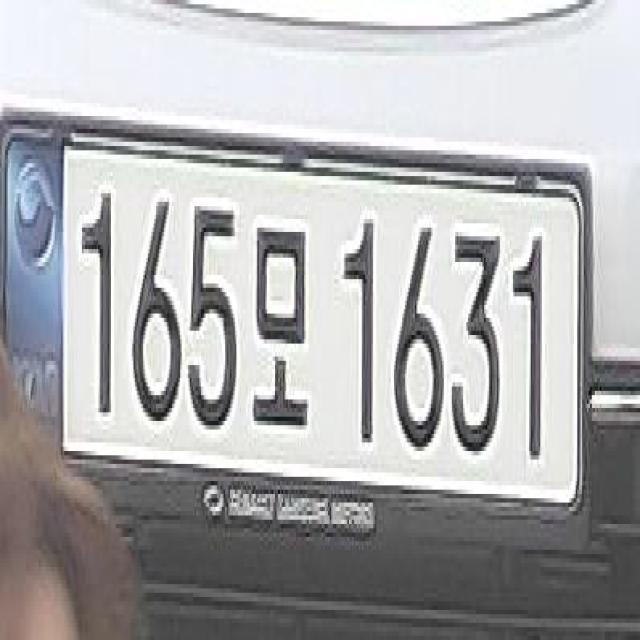illegal_plate: (21, 120, 594, 548)
